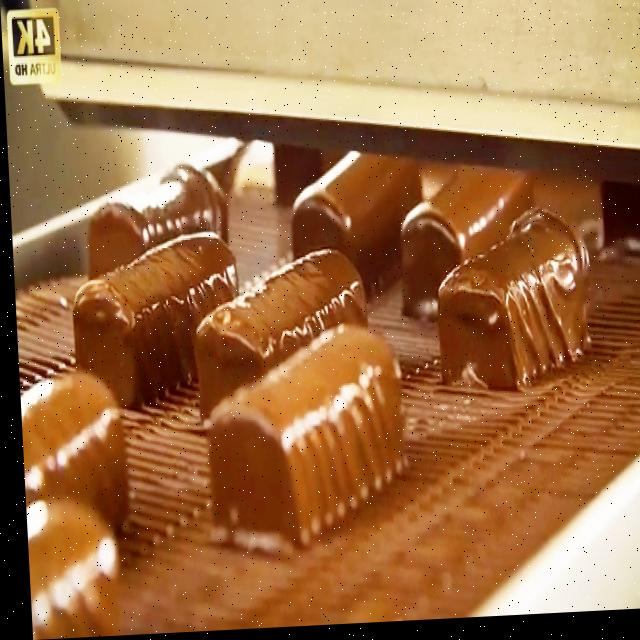Choco: (198, 318, 408, 553), (187, 244, 370, 425), (428, 206, 593, 398), (66, 227, 241, 406), (75, 154, 229, 307), (388, 181, 534, 325), (284, 157, 419, 309), (15, 369, 130, 539), (20, 490, 121, 640)
